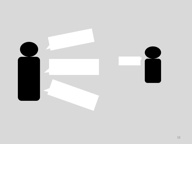left_oneway: (41, 79, 104, 112), (44, 26, 96, 53), (42, 56, 102, 77)
right_oneway: (115, 53, 144, 69)
